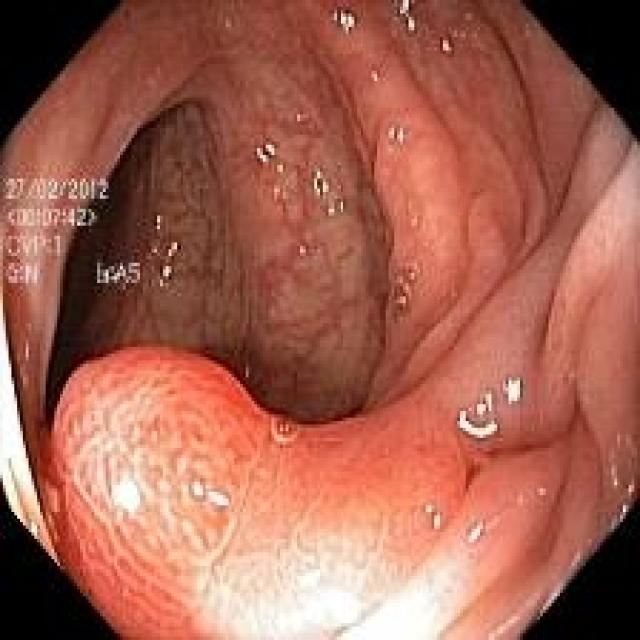Polyps: (46, 348, 468, 640)
